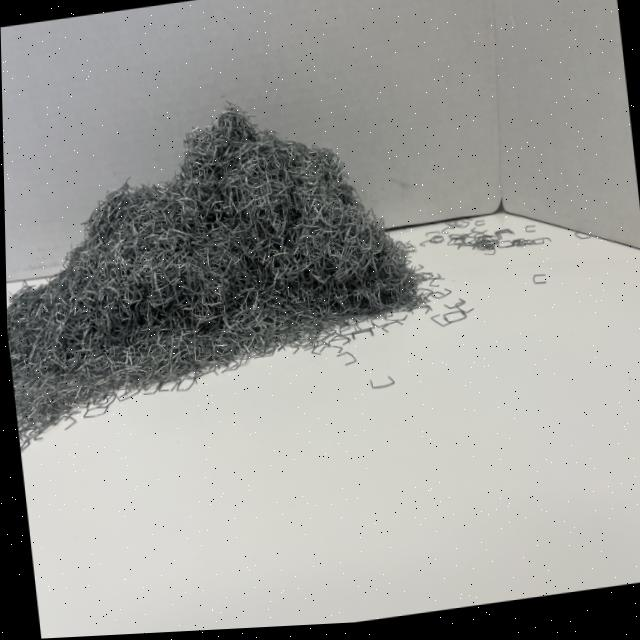staples: (2, 71, 438, 471)
